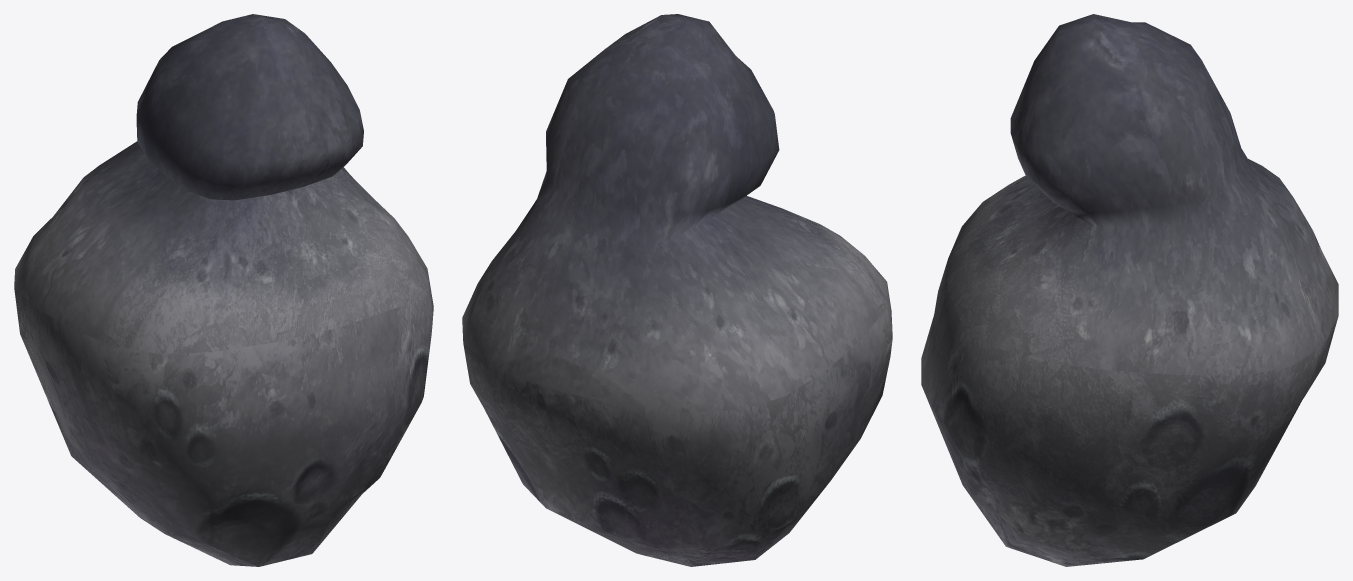
The model's file is rockJ.fbx.
The picture shows the model from 3 angles, left to right: view 1: azimuth 30°, elevation 25°; view 2: azimuth 150°, elevation 25°; view 3: azimuth 270°, elevation 25°; orthographic projection. The views are drawn at different scales.
Visible parts, largest first — view 1: polySurface2; view 2: polySurface2; view 3: polySurface2.
Part boxes in pixels (x1,y1,x2,y2): polySurface2: (14, 14, 433, 566); polySurface2: (462, 14, 892, 566); polySurface2: (921, 14, 1338, 566).
Size of the model in its own units: 219 by 326 by 227.
Materials: 1 (1 with a texture image).
